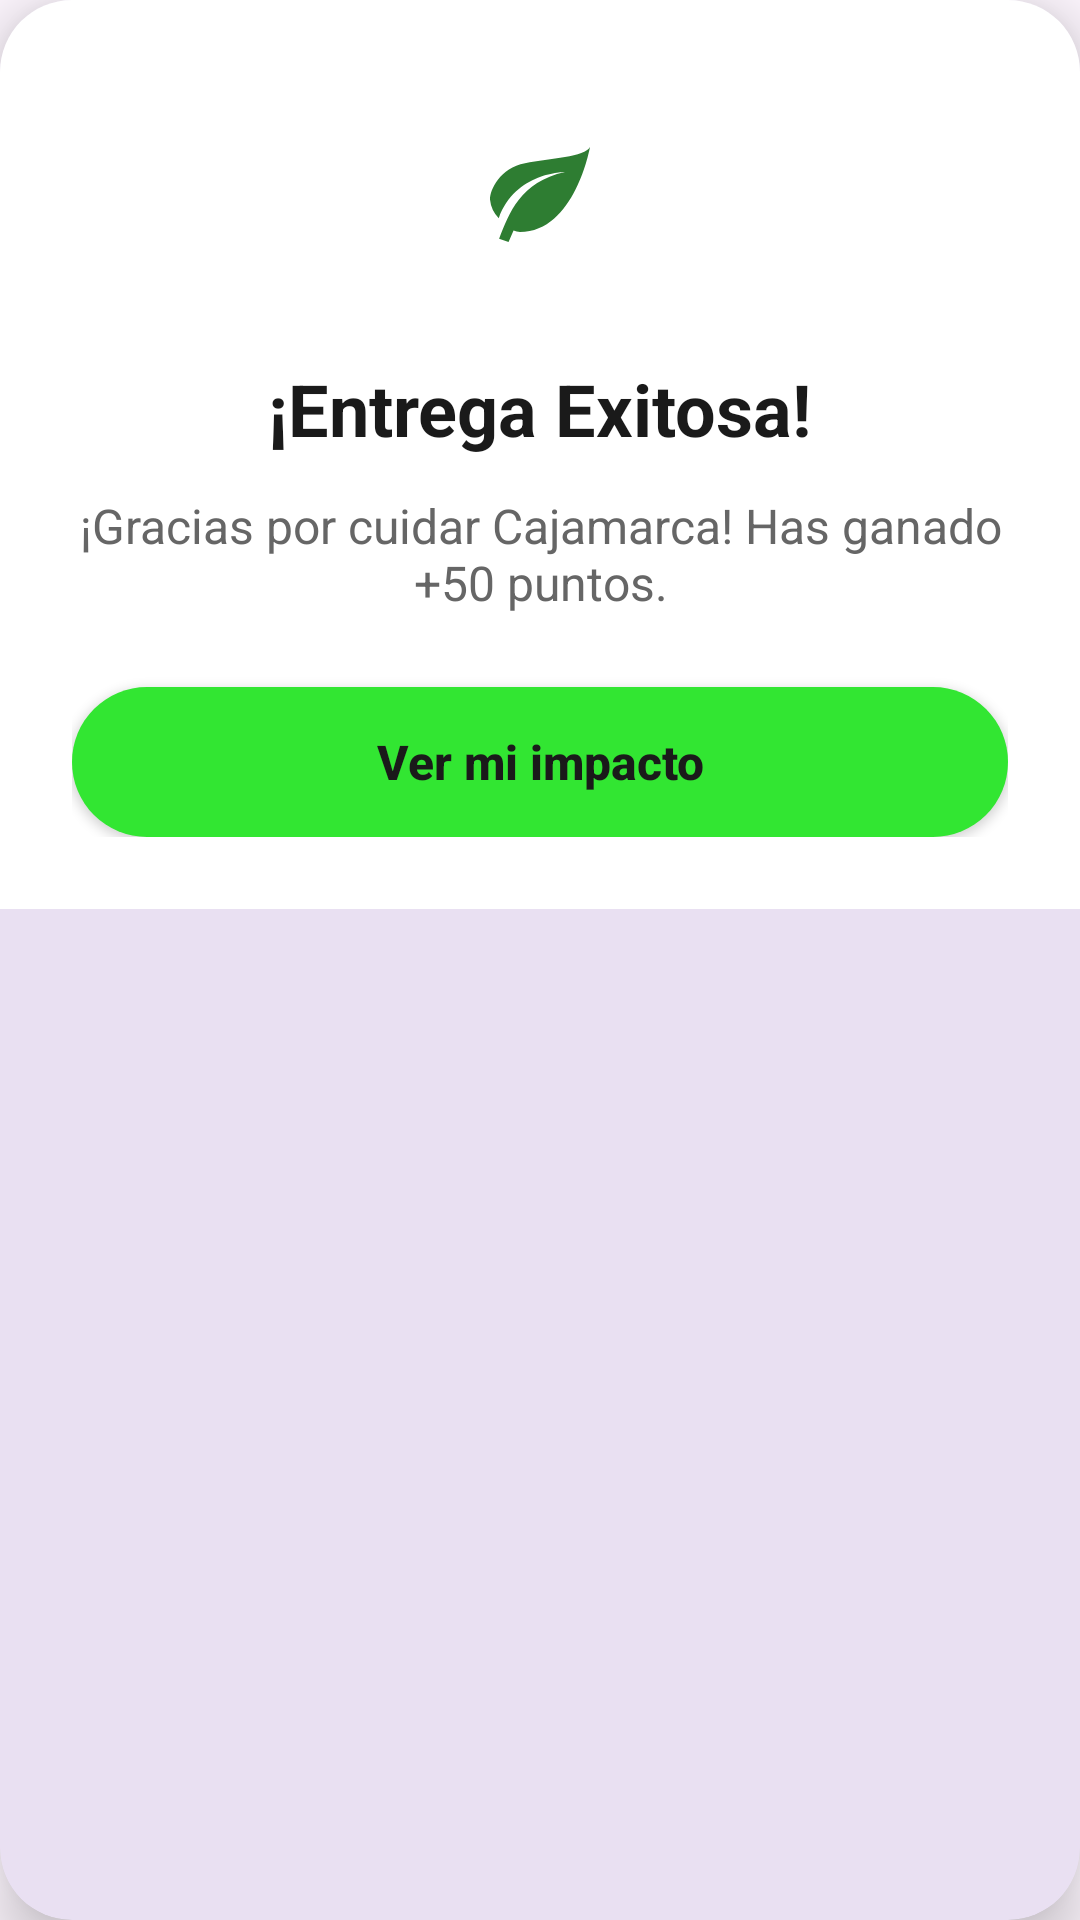

Where icons sit on this 1080px×1920px app screen, as bbox(x1, y1, x2, y2):
leaf: bbox(490, 147, 590, 242)
